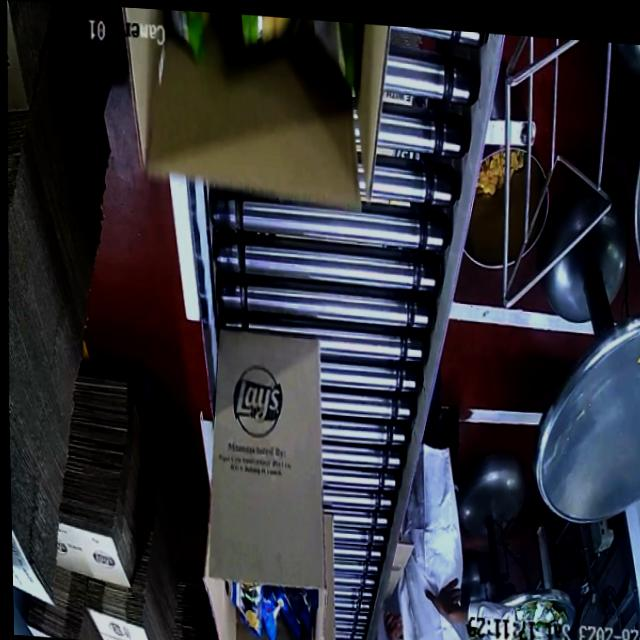PAPRIKA: (224, 579, 314, 640)
